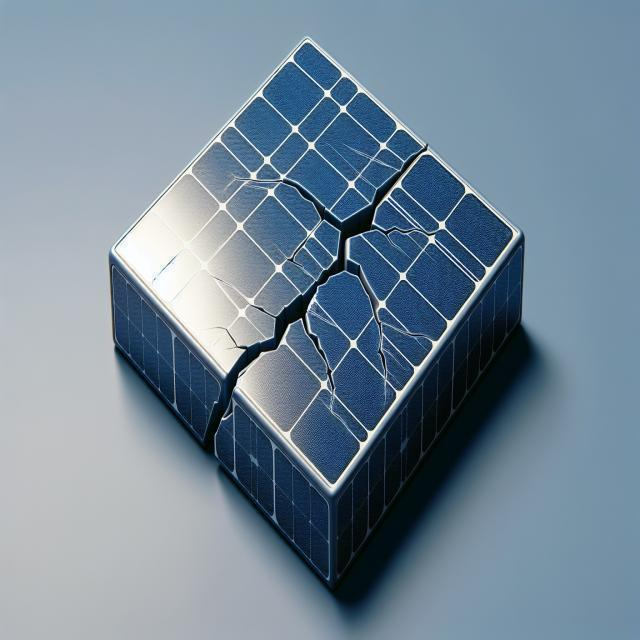Anomaly Solar Panel: (113, 39, 523, 491)
Structural Damage: (195, 128, 451, 437), (150, 249, 184, 284)
